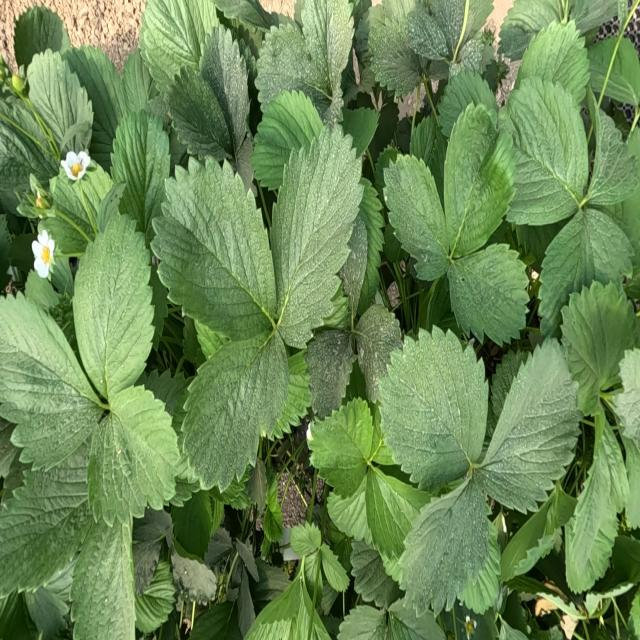Flowers: (31, 232, 55, 277), (62, 152, 89, 180)
Leaves: (155, 159, 275, 336), (271, 127, 363, 338), (378, 328, 487, 492), (182, 331, 289, 490), (1, 298, 100, 467), (483, 343, 581, 511), (74, 220, 154, 404), (88, 386, 182, 522), (0, 459, 91, 594), (505, 78, 588, 225), (401, 478, 489, 613), (539, 208, 632, 334), (444, 102, 514, 257), (561, 281, 635, 414), (383, 153, 450, 279), (448, 244, 527, 344), (71, 517, 134, 638), (255, 20, 330, 119), (140, 0, 216, 95), (64, 44, 123, 163), (570, 421, 617, 570), (112, 108, 169, 230), (253, 91, 323, 190), (1, 95, 59, 214), (41, 170, 121, 256), (308, 398, 372, 497), (27, 49, 91, 147), (365, 467, 419, 581), (515, 20, 589, 102), (201, 24, 249, 149), (168, 66, 231, 161), (586, 104, 639, 205), (301, 0, 354, 97), (500, 494, 557, 582), (365, 468, 415, 564), (368, 10, 420, 98), (356, 303, 401, 403), (136, 369, 191, 444), (485, 350, 530, 441), (438, 68, 498, 136), (307, 328, 353, 416), (458, 520, 500, 612), (588, 37, 640, 110), (566, 519, 617, 593), (498, 0, 561, 59), (430, 0, 493, 59), (245, 577, 303, 639), (26, 564, 73, 639), (270, 353, 311, 438), (14, 4, 69, 65), (350, 539, 399, 607), (357, 178, 385, 296), (133, 510, 172, 594), (135, 556, 175, 632), (406, 0, 455, 61), (339, 215, 367, 319), (328, 477, 371, 543), (613, 349, 640, 447), (171, 491, 211, 556), (121, 48, 156, 116), (388, 598, 446, 639), (170, 550, 215, 602), (292, 560, 321, 639), (190, 599, 235, 639), (342, 107, 378, 156), (338, 604, 386, 639), (214, 0, 269, 30), (568, 0, 618, 32), (25, 271, 59, 311), (322, 544, 349, 592), (263, 476, 282, 542), (410, 116, 436, 164), (289, 522, 321, 558), (10, 233, 35, 275), (248, 457, 267, 511), (235, 540, 258, 579), (51, 257, 73, 296)
